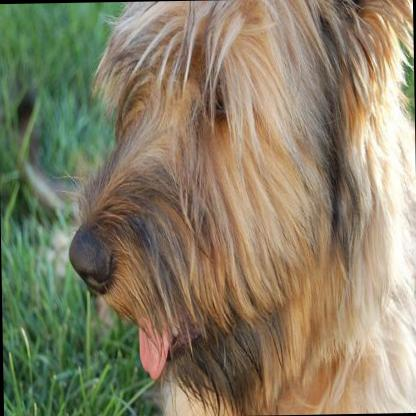briard: (63, 0, 416, 415)
